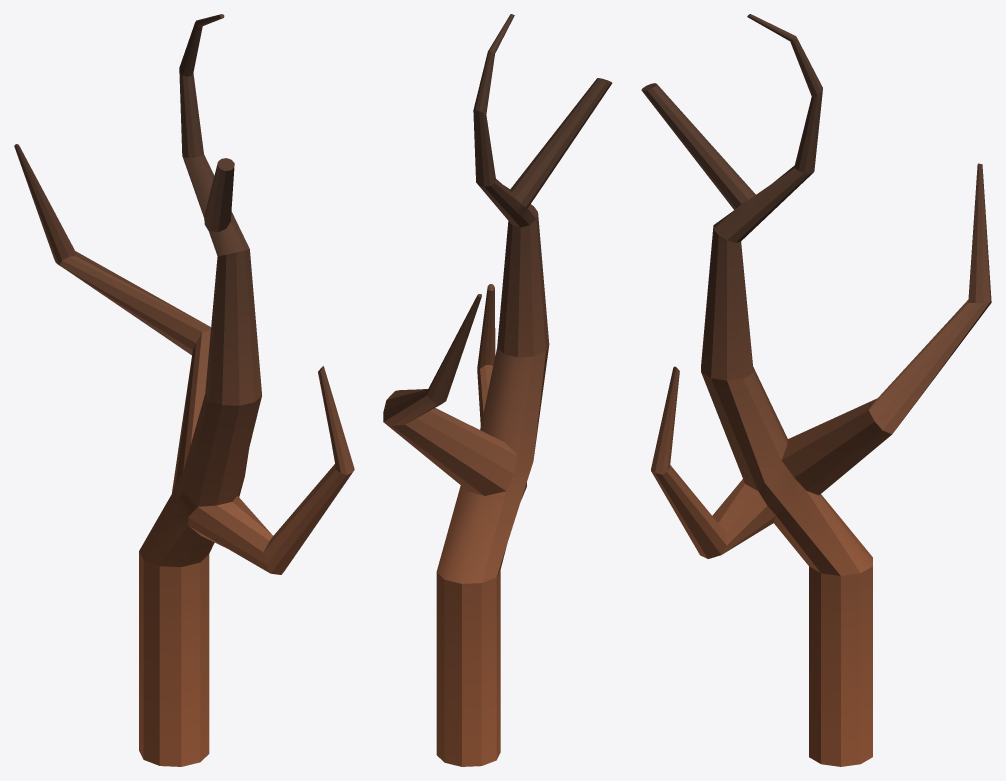
The model's file is ramas.fbx.
The picture shows the model from 3 angles, left to right: view 1: azimuth 30°, elevation 25°; view 2: azimuth 150°, elevation 25°; view 3: azimuth 270°, elevation 25°; orthographic projection. The views are drawn at different scales.
Parts seen in each view (by area): view 1: ramas; view 2: ramas; view 3: ramas.
Part boxes in pixels (x1,y1,x2,y2): ramas: (14, 14, 354, 766); ramas: (383, 14, 612, 766); ramas: (641, 14, 991, 766).
Bounding box in the file's own units: 140 × 605 × 260.
